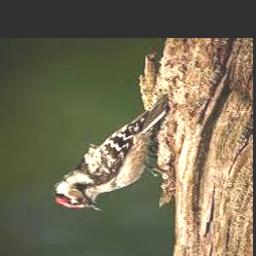Woodpecker: (52, 96, 167, 212)
